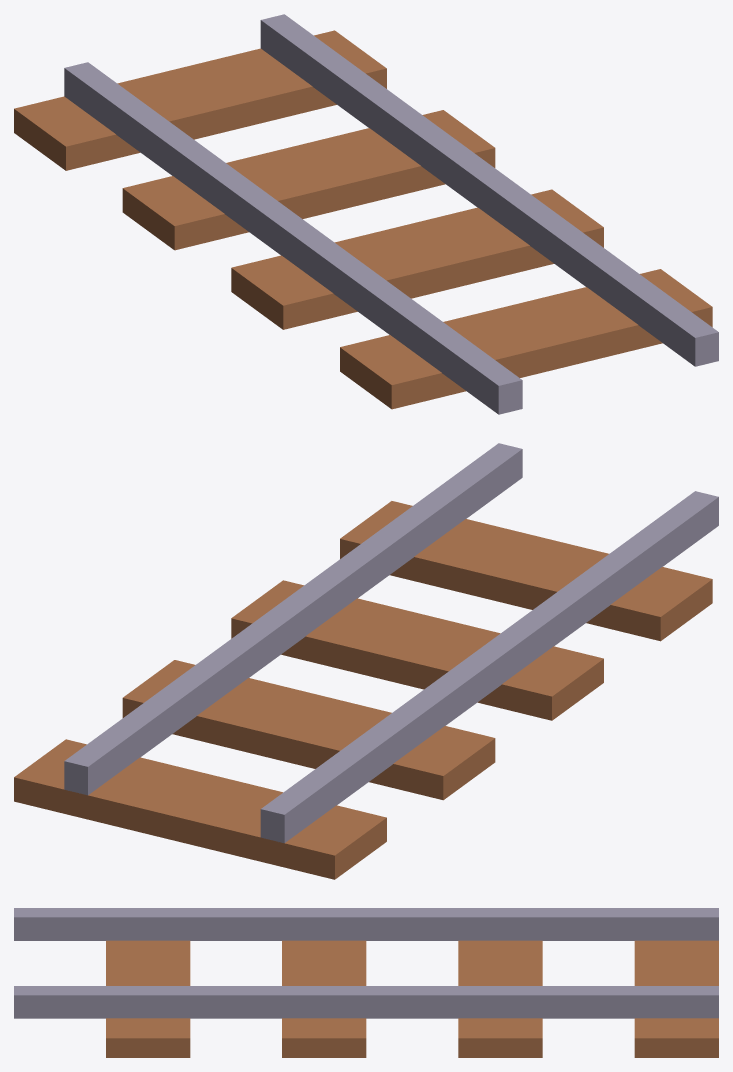
Rendered from mini_train_track_ref.fbx.
The picture shows the model from 3 angles, top to bottom: view 1: azimuth 30°, elevation 25°; view 2: azimuth 150°, elevation 25°; view 3: azimuth 270°, elevation 25°; orthographic projection. The views are drawn at different scales.
Visible parts, largest first — view 1: pCube83; view 2: pCube83; view 3: pCube83.
Boxes of the visible parts, <box> form: pCube83: <box>14,14,718,414</box>; pCube83: <box>14,443,718,879</box>; pCube83: <box>14,908,718,1057</box>.
Size of the model in its own units: 0.4264 by 0.0669 by 1.
